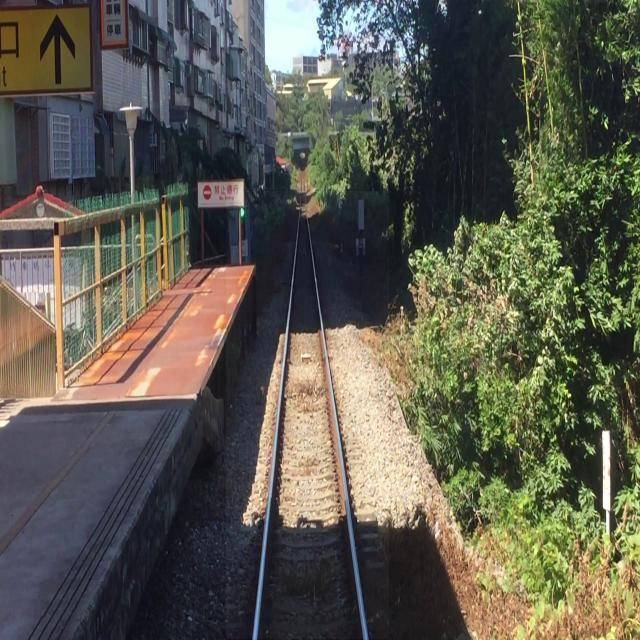rail: (228, 192, 390, 640)
